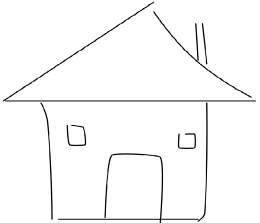big_house: (2, 1, 260, 223)
chimney: (186, 11, 215, 74)
door: (102, 142, 168, 223)
open_window: (169, 129, 201, 158), (63, 121, 90, 149)
roof: (2, 2, 255, 106)
wall: (33, 93, 222, 222)
